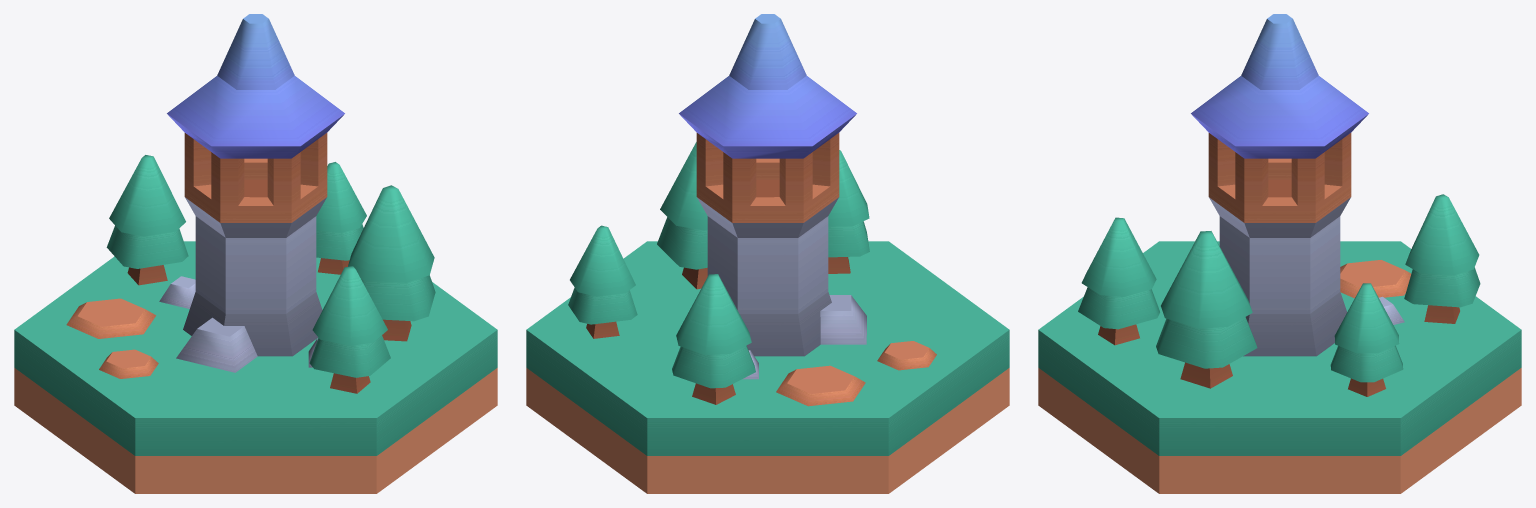
The model's file is building-tower.glb.
3 views of the same model, side by side, from view 1: azimuth 30°, elevation 25°; view 2: azimuth 150°, elevation 25°; view 3: azimuth 270°, elevation 25° (orthographic).
Visible parts, largest first — view 1: building-tower; view 2: building-tower; view 3: building-tower.
Boxes of the visible parts, x1=… form: building-tower: x1=14, y1=14, x2=497, y2=493; building-tower: x1=526, y1=14, x2=1009, y2=493; building-tower: x1=1038, y1=14, x2=1521, y2=493.
Bounding box in the file's own units: 1 × 1.02 × 1.15.
Materials: 1 (1 with a texture image).
